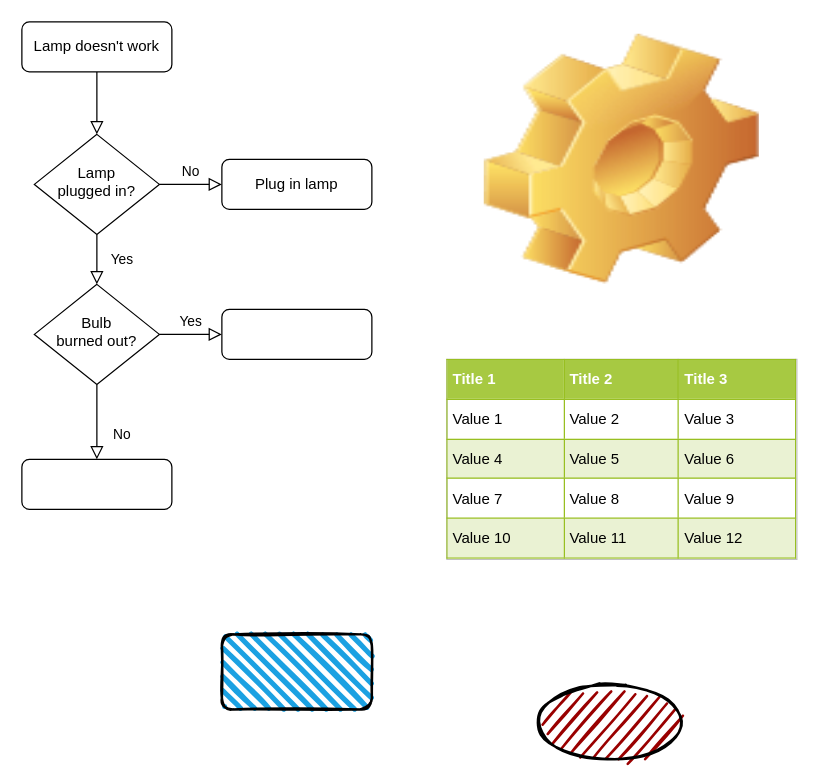
Image size: 819x783. Some labels were removed from this diagram. Each missing label, with the centre of its shape:
Repair Lamp: (96,483)
Replace Bulb: (296,333)
